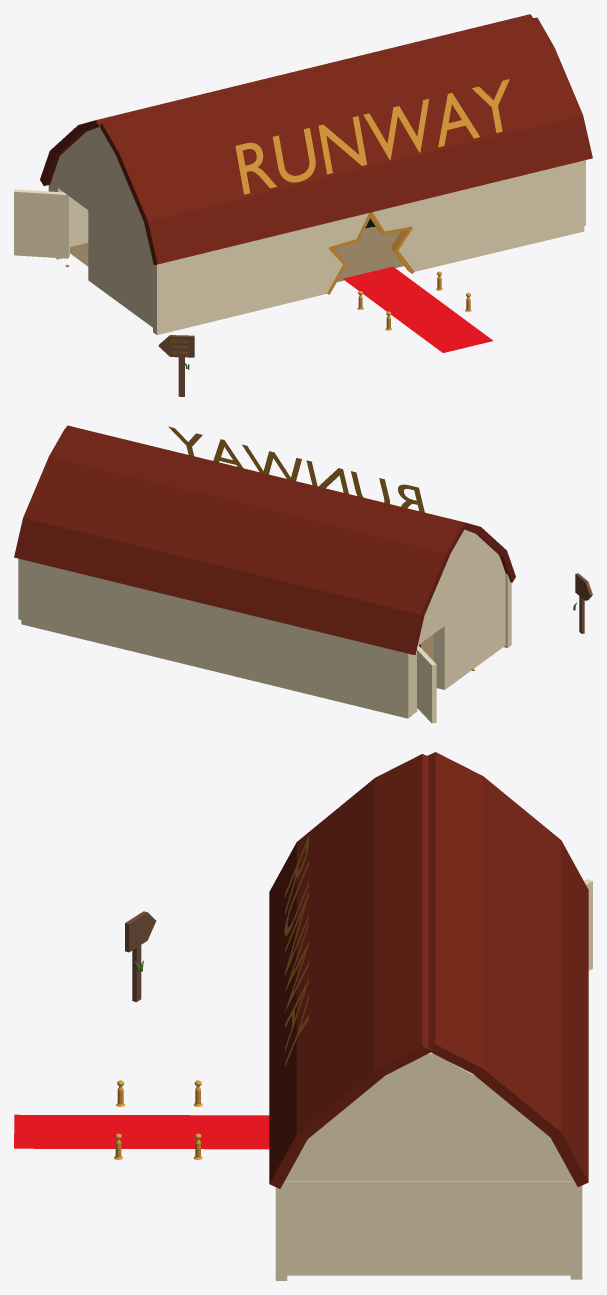
Rendered from runway.glb.
The picture shows the model from 3 angles, top to bottom: view 1: azimuth 30°, elevation 25°; view 2: azimuth 150°, elevation 25°; view 3: azimuth 270°, elevation 25°; orthographic projection. The views are drawn at different scales.
Visible parts, largest first — view 1: Cube.057, Cube.137, Cube.055, Text, Plane.008, Cube.050, Cube.053, Cube.056, Plane.009, Cube.332, Cube.049; view 2: Cube.056, Cube.049, Cube.055, Cube.050, Cube.057, Text, Cube.053, Cube.052, Cube.332, Cube.137; view 3: Cube.056, Cube.057, Cube.051, Cube.054, Plane.008, Text, Cube.332.
Part boxes in pixels (bbox=[...]): Cube.057: bbox=[100, 17, 592, 264]; Cube.137: bbox=[153, 160, 584, 335]; Cube.055: bbox=[50, 127, 151, 256]; Text: bbox=[235, 79, 509, 194]; Plane.008: bbox=[343, 266, 493, 352]; Cube.050: bbox=[88, 210, 152, 327]; Cube.053: bbox=[14, 189, 68, 258]; Cube.056: bbox=[40, 14, 532, 185]; Plane.009: bbox=[69, 227, 403, 282]; Cube.332: bbox=[158, 335, 194, 396]; Cube.049: bbox=[48, 185, 88, 246]; Cube.056: bbox=[14, 429, 465, 654]; Cube.049: bbox=[21, 559, 411, 718]; Cube.055: bbox=[417, 529, 505, 645]; Cube.050: bbox=[433, 581, 505, 689]; Cube.057: bbox=[65, 425, 515, 582]; Text: bbox=[168, 426, 424, 512]; Cube.053: bbox=[417, 645, 436, 723]; Cube.052: bbox=[408, 648, 417, 717]; Cube.332: bbox=[575, 573, 592, 633]; Cube.137: bbox=[504, 574, 511, 647]; Cube.056: bbox=[427, 752, 588, 1186]; Cube.057: bbox=[269, 754, 433, 1188]; Cube.051: bbox=[277, 1181, 582, 1275]; Cube.054: bbox=[285, 1052, 573, 1180]; Plane.008: bbox=[14, 1114, 269, 1149]; Text: bbox=[284, 836, 308, 1066]; Cube.332: bbox=[125, 911, 156, 1001].
Bounding box in the file's own units: 48.65 × 18.62 × 37.15.
